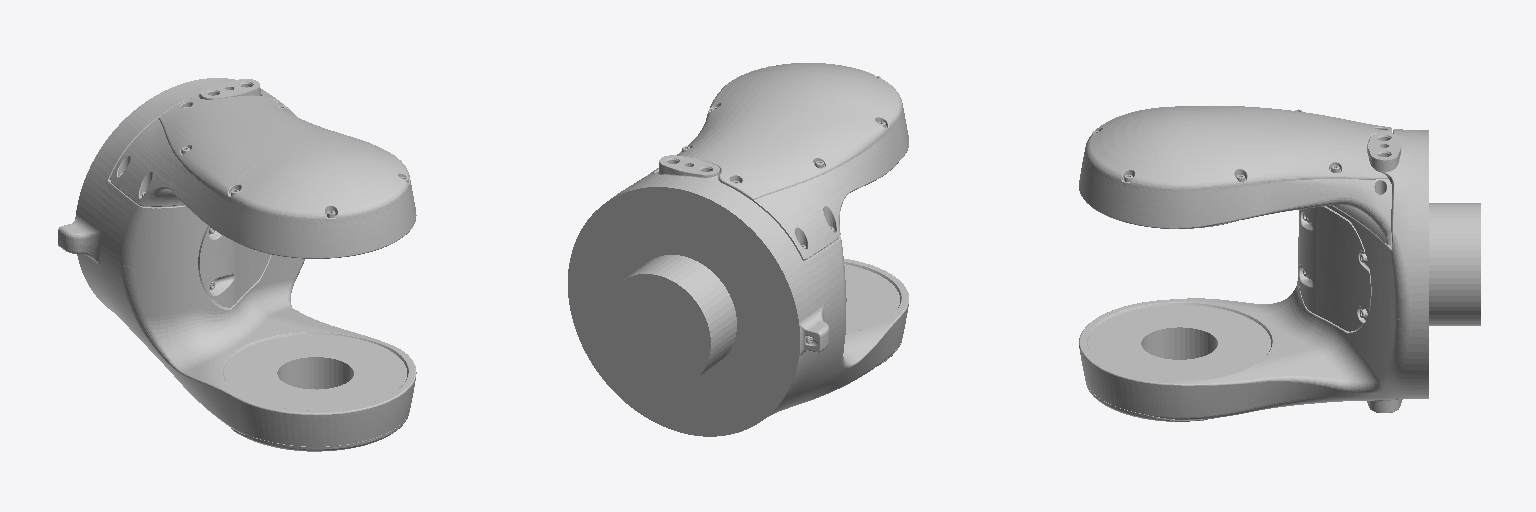
3 views of the same model, side by side, from view 1: azimuth 30°, elevation 25°; view 2: azimuth 150°, elevation 25°; view 3: azimuth 270°, elevation 25° (orthographic).
Parts seen in each view (by area): view 1: MeshBody1; view 2: MeshBody1; view 3: MeshBody1.
Part boxes in pixels (bbox=[...]): MeshBody1: bbox=[58, 78, 416, 451]; MeshBody1: bbox=[568, 63, 908, 436]; MeshBody1: bbox=[1079, 106, 1480, 421].
Bounding box in the file's own units: 190 × 195 × 262.